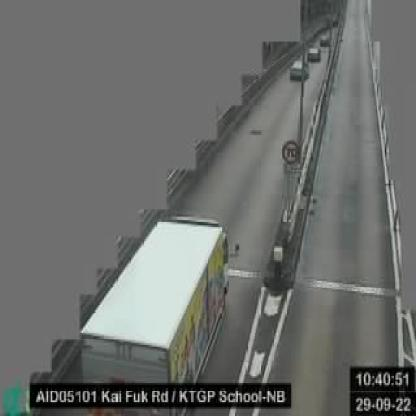Car: (284, 55, 308, 85), (317, 30, 332, 48), (306, 45, 321, 61)
Truck: (69, 210, 234, 414)
